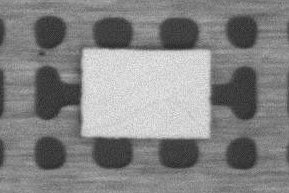DIE_CRACK: (90, 96, 208, 133)
